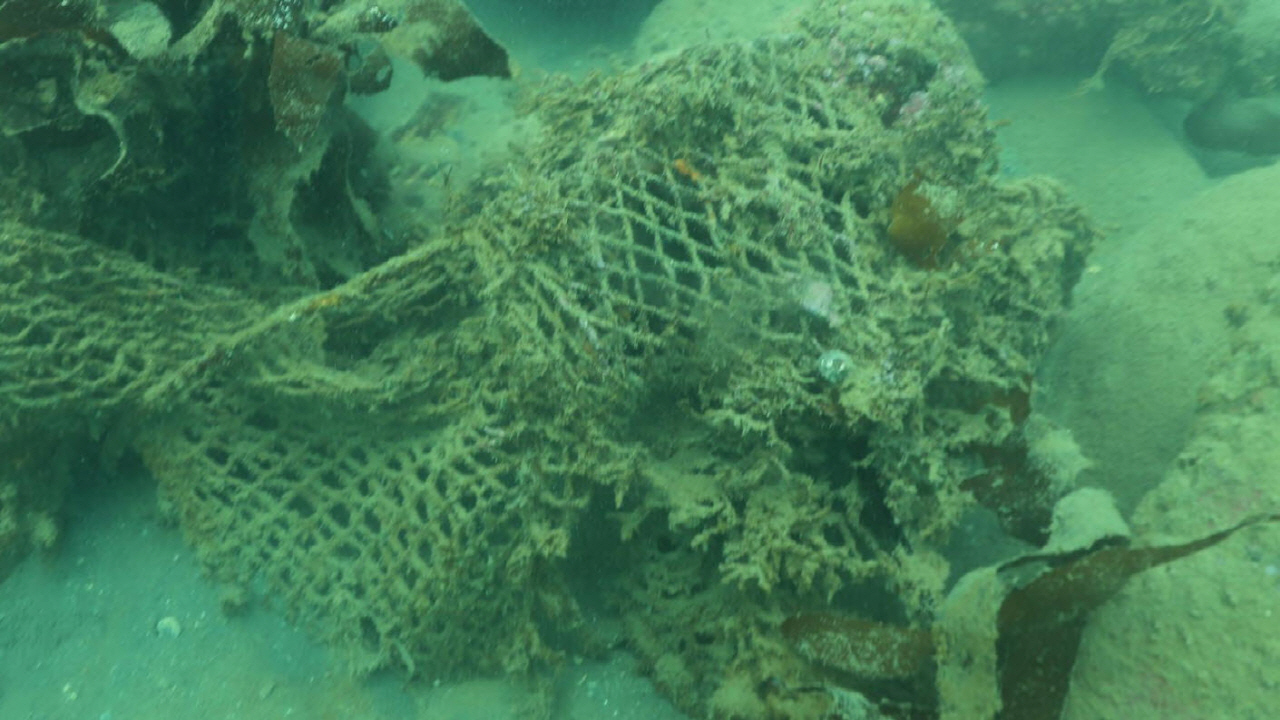fish net: (0, 31, 899, 680)
